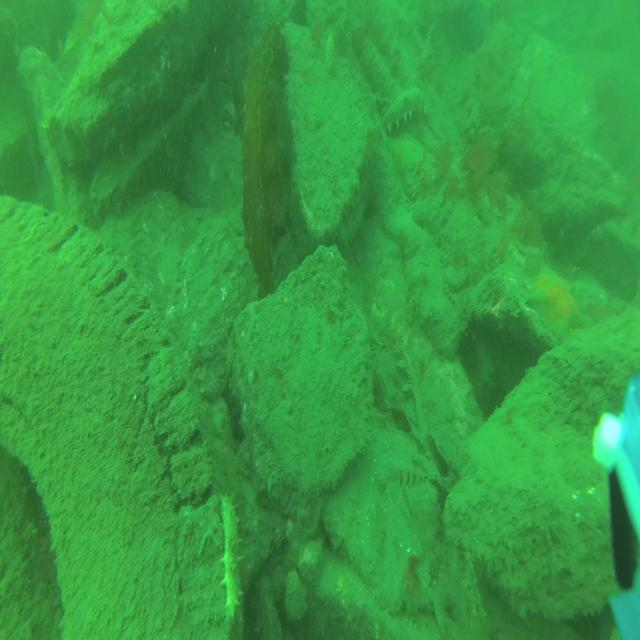holothurian: (216, 493, 242, 621), (383, 89, 425, 132)
starfish: (527, 259, 586, 342)
